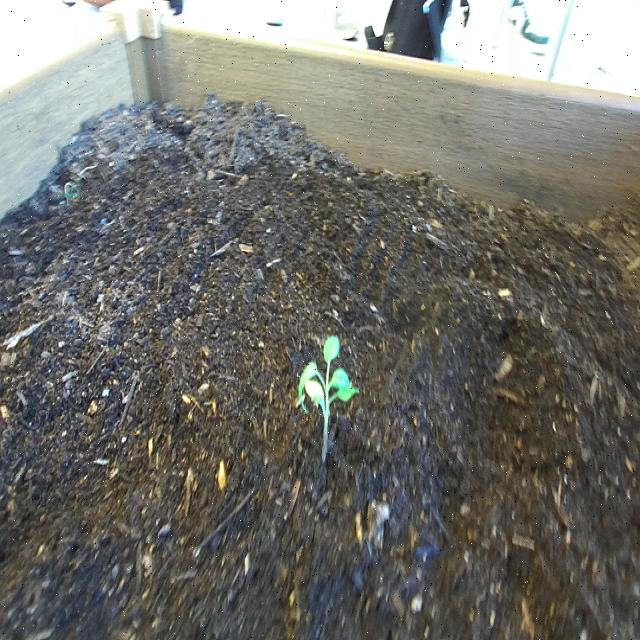Healthy: (294, 327, 358, 467)
